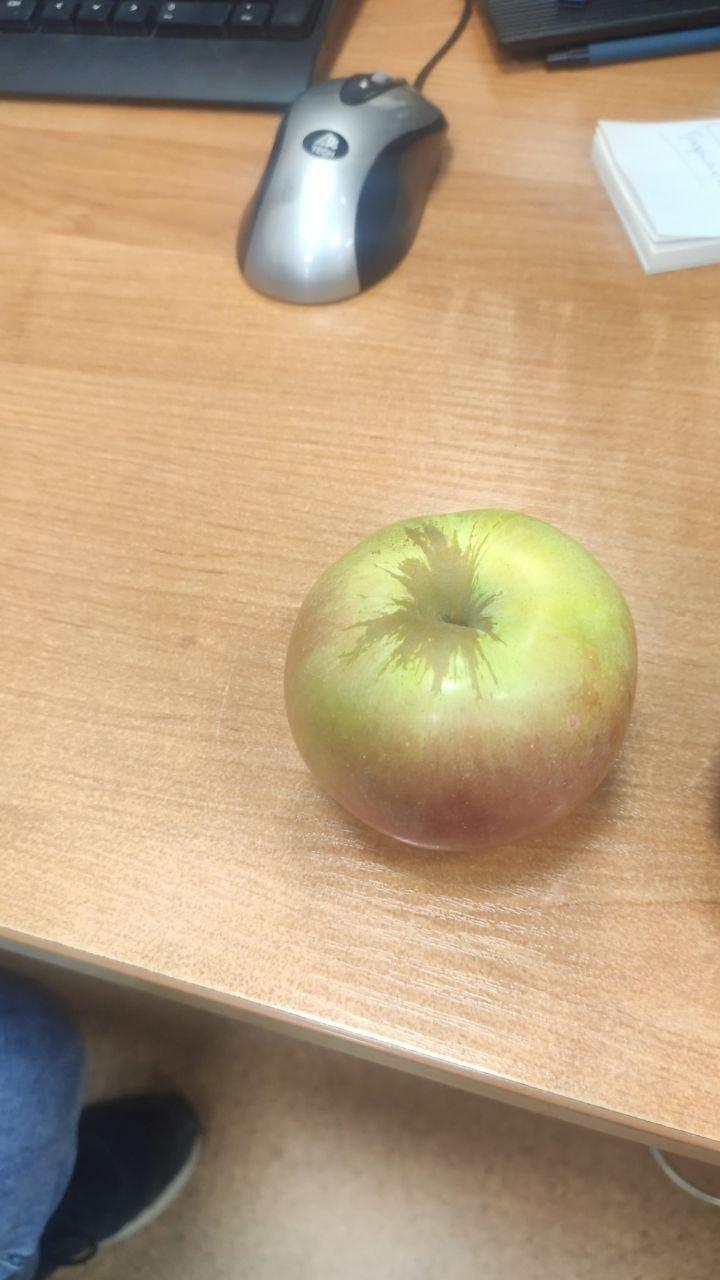Apple: (288, 510, 640, 854)
